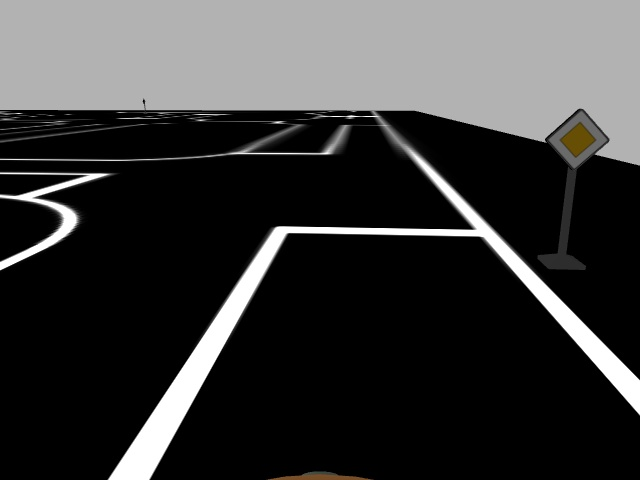priority: (543, 107, 610, 170)
